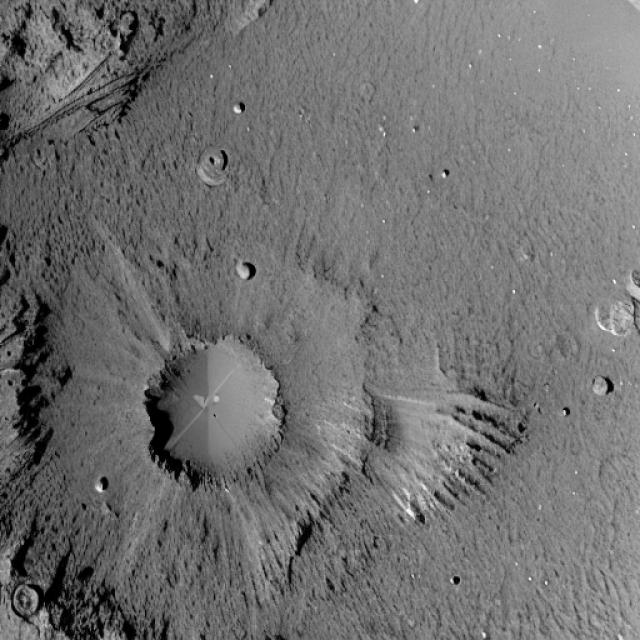crater: (140, 335, 284, 493)
